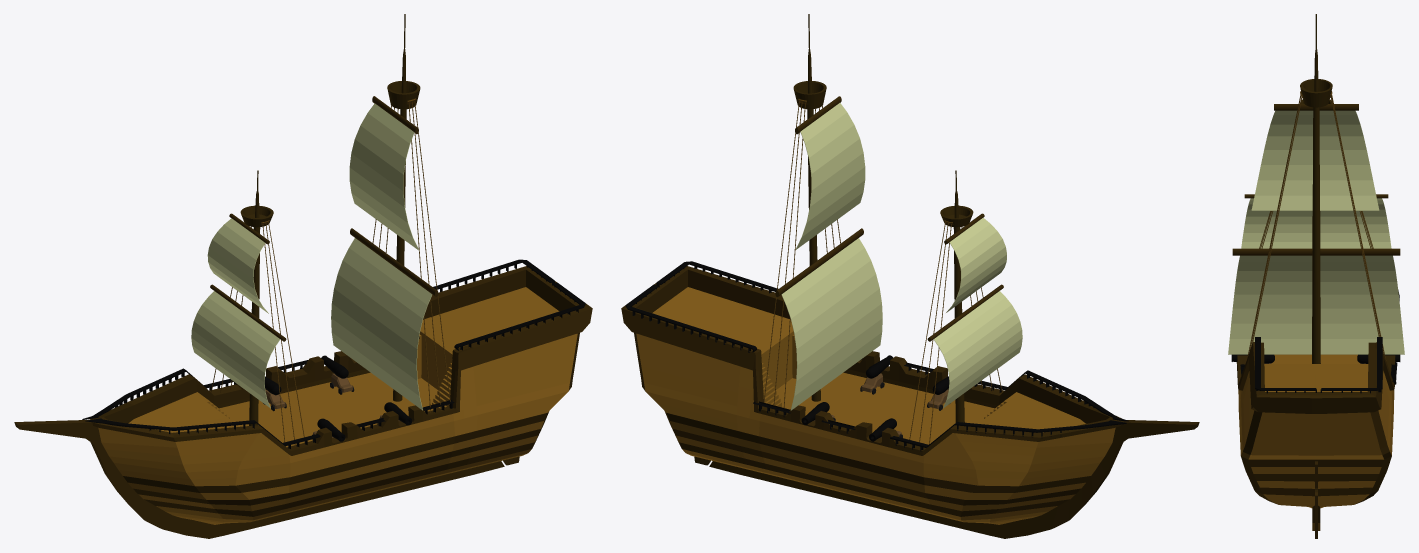
Rendered from PirateShip_v2.fbx.
The picture shows the model from 3 angles, left to right: view 1: azimuth 30°, elevation 25°; view 2: azimuth 150°, elevation 25°; view 3: azimuth 270°, elevation 25°; orthographic projection.
Parts seen in each view (by area): view 1: TrupBroda, VeceJedro.001, ManjeJedro.001, VeceJedro, Ograda, ManjeJedro, Jarbol.001, Jarbol, Cylinder.001; view 2: TrupBroda, VeceJedro.001, ManjeJedro.001, VeceJedro, Ograda, ManjeJedro, Jarbol.001, Jarbol, Cylinder.001; view 3: TrupBroda, VeceJedro.001, ManjeJedro.001, VeceJedro, Jarbol.001, Cylinder.001, Ograda, Cylinder.002, Uze5.001, Uze6.001, Uze2.001, Uze3.001 (+2 smaller).
Boxes of the visible parts, box(x1,y1,x2,y2) form: TrupBroda: box(14, 266, 592, 538); VeceJedro.001: box(331, 238, 432, 410); ManjeJedro.001: box(349, 103, 419, 250); VeceJedro: box(191, 291, 280, 408); Ograda: box(82, 259, 585, 448); ManjeJedro: box(207, 218, 268, 313); Jarbol.001: box(387, 14, 420, 401); Jarbol: box(240, 170, 273, 425); Cylinder.001: box(350, 228, 438, 296); TrupBroda: box(621, 266, 1199, 538); VeceJedro.001: box(781, 238, 882, 410); ManjeJedro.001: box(795, 103, 865, 249); VeceJedro: box(933, 291, 1022, 408); Ograda: box(625, 261, 1128, 451); ManjeJedro: box(946, 217, 1006, 312); Jarbol.001: box(793, 14, 826, 401); Jarbol: box(940, 170, 973, 422); Cylinder.001: box(775, 228, 863, 296); TrupBroda: box(1236, 341, 1395, 530); VeceJedro.001: box(1228, 255, 1404, 354); ManjeJedro.001: box(1251, 110, 1379, 210); VeceJedro: box(1241, 198, 1391, 248); Jarbol.001: box(1300, 14, 1332, 363); Cylinder.001: box(1232, 248, 1400, 255); Ograda: box(1240, 290, 1399, 393); Cylinder.002: box(1274, 104, 1358, 110); Uze5.001: box(1249, 95, 1301, 351); Uze6.001: box(1252, 96, 1302, 343); Uze2.001: box(1331, 95, 1383, 353); Uze3.001: box(1330, 96, 1379, 336).
Bounding box in the file's own units: 1655 × 1374 × 468.
